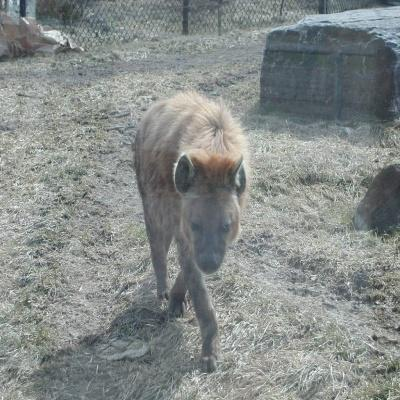hyenas: (116, 88, 299, 385)
